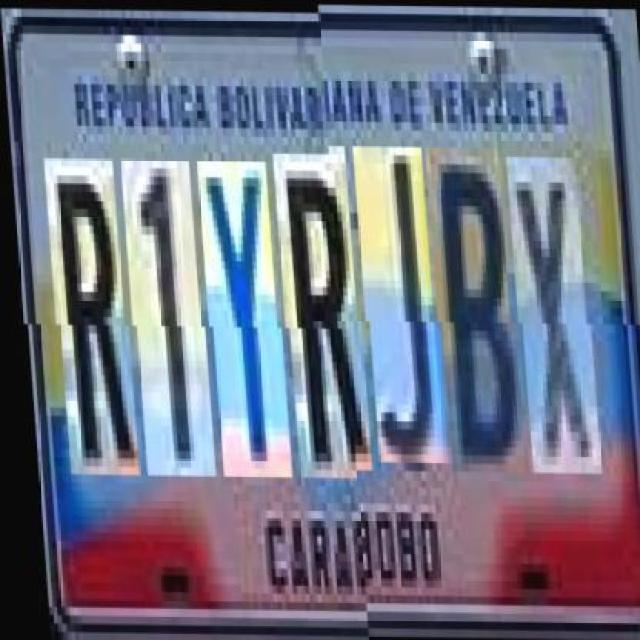1: (122, 159, 209, 476)
b: (428, 155, 518, 479)
j: (355, 154, 442, 471)
r: (274, 153, 366, 478), (45, 158, 133, 476)
x: (509, 164, 596, 481)
y: (199, 160, 286, 477)
